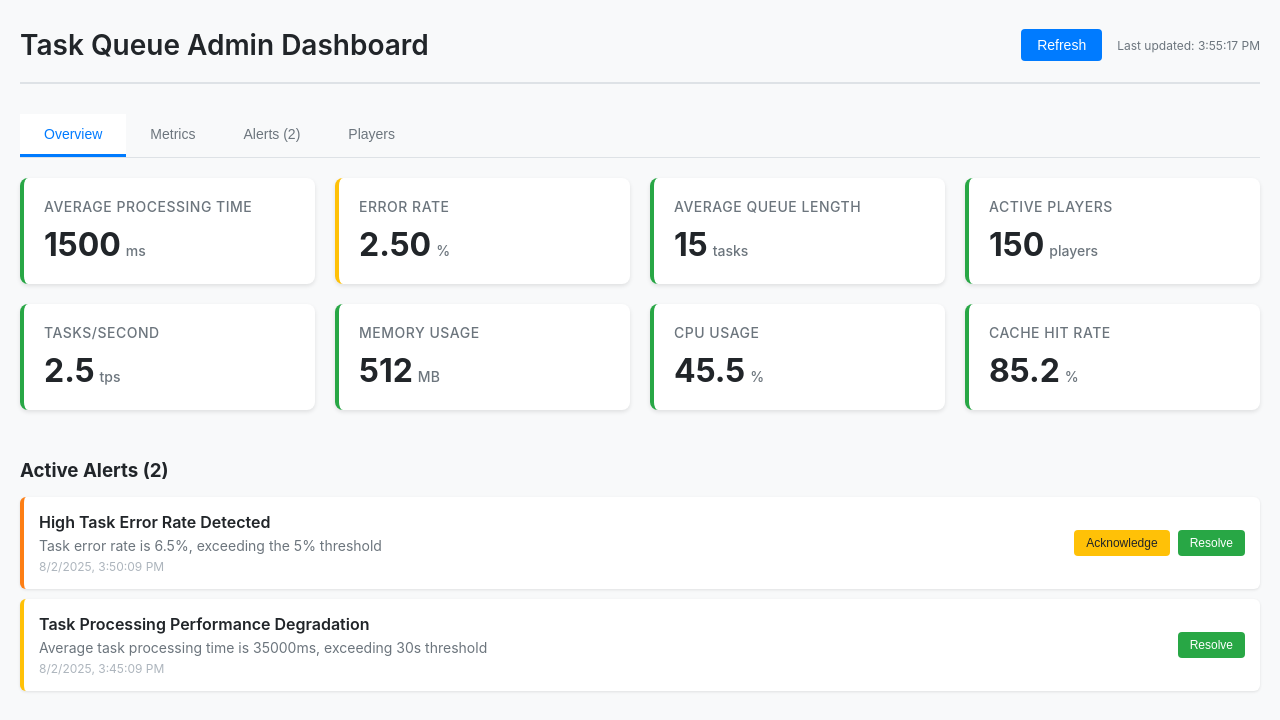
Test: TaskQueueAdminDashboard › displays queue length distribution
Click the button "Players": (372, 136) x1=324 y1=114 x2=419 y2=157
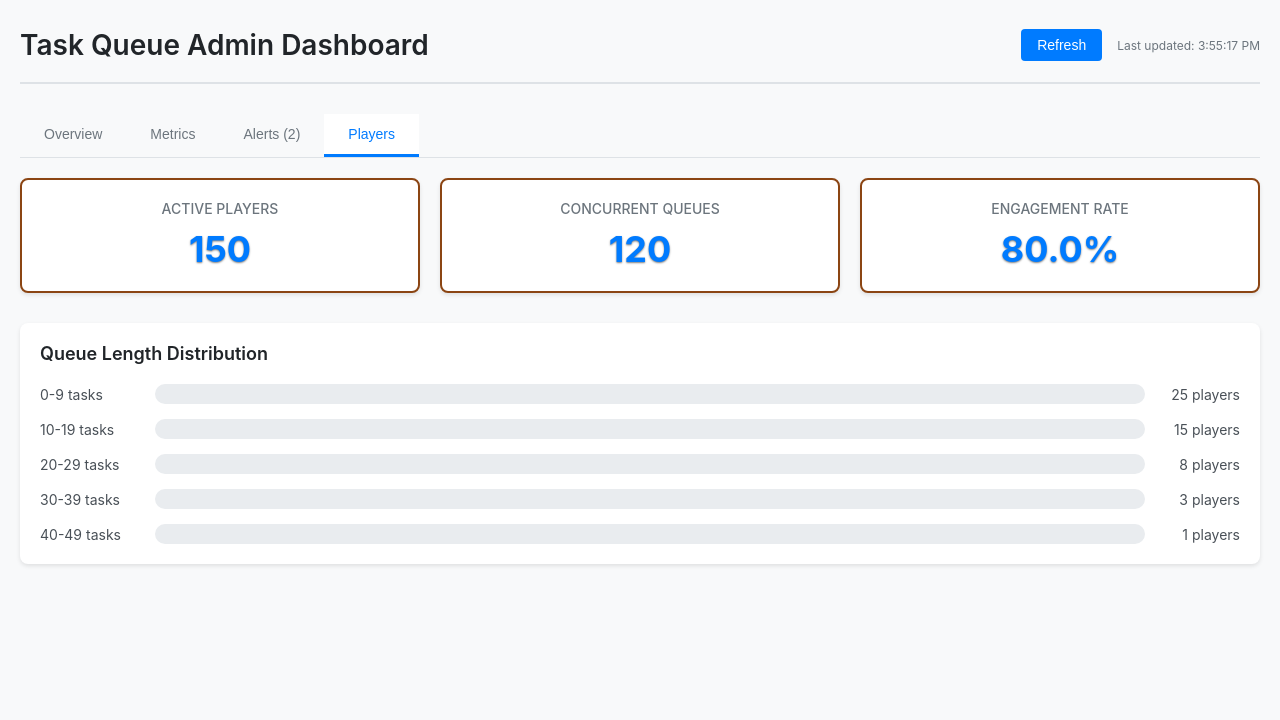
Result: the heading "Queue Length Distribution" is shown at x1=40 y1=343 x2=268 y2=364
Result: the text "0-9 tasks" is shown at x1=40 y1=386 x2=103 y2=402
Result: the text "25 players" is shown at x1=1160 y1=386 x2=1240 y2=402
